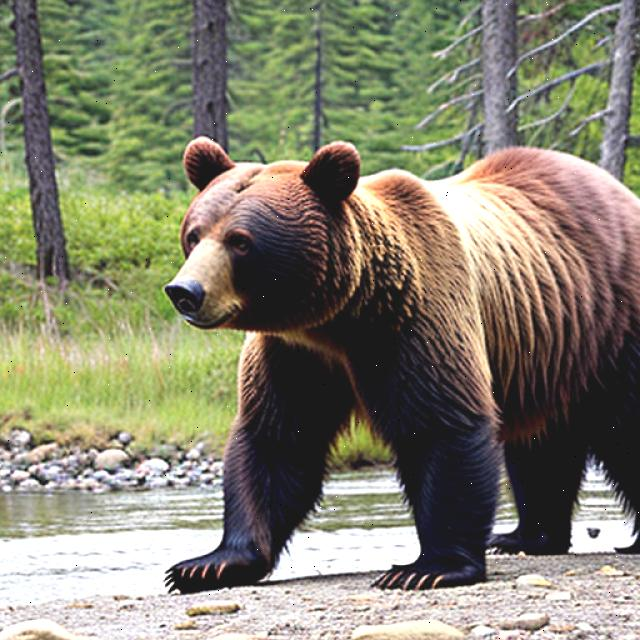bear: (142, 104, 640, 582)
